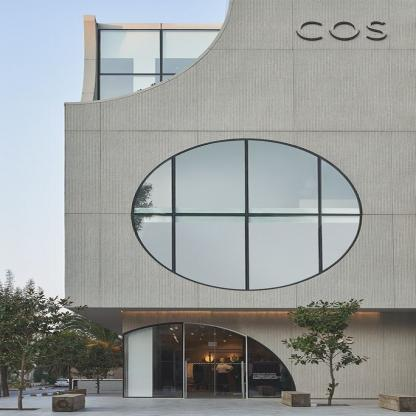Building Outline: (64, 0, 416, 399)
Deco: (295, 19, 389, 41), (322, 334, 354, 345)
Door: (184, 324, 246, 399)
Facade: (64, 0, 416, 399)
Floor Slab: (64, 208, 416, 223), (64, 125, 416, 137)
Glass Wall: (100, 30, 222, 119), (124, 324, 182, 397), (248, 338, 295, 397)
